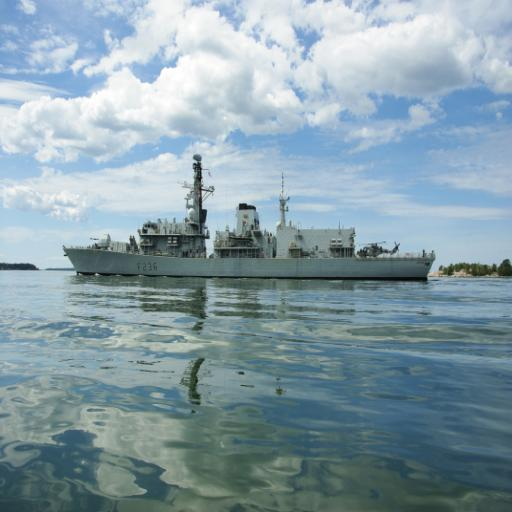Fragata: (62, 156, 437, 281)
